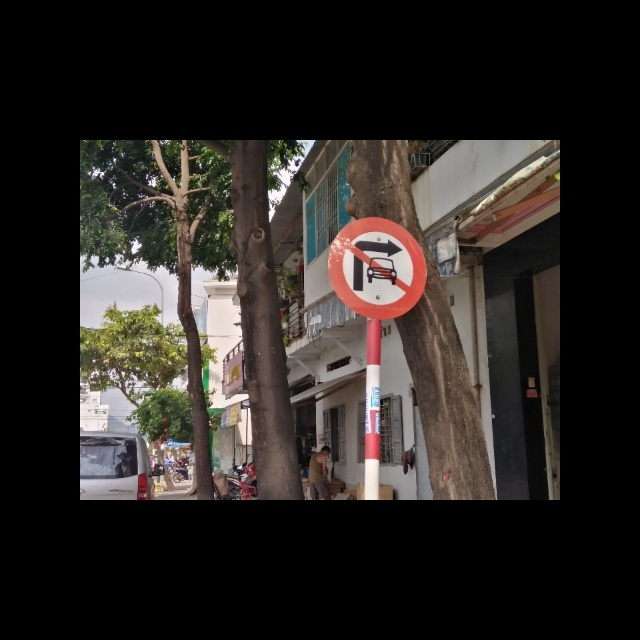Cấm xe ô tô rẽ trái: (326, 216, 429, 320)
